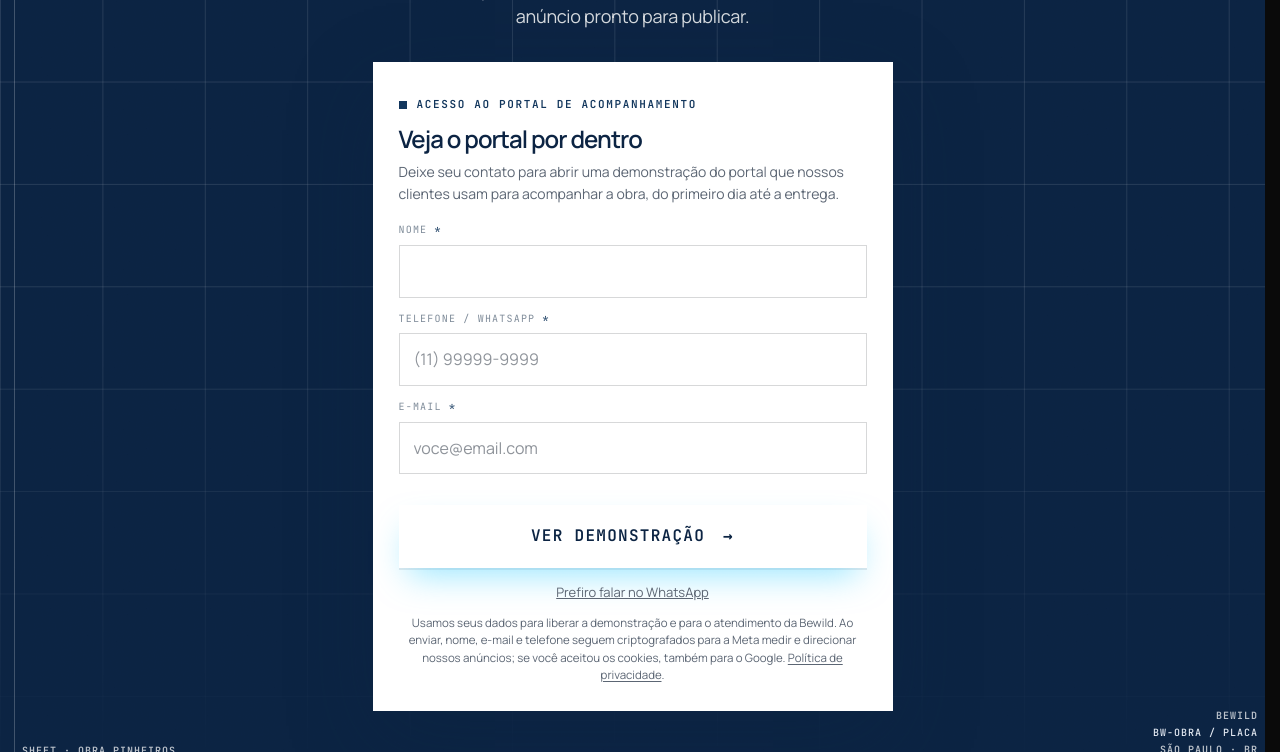
/o — placa de obra (PUB-06) › sem confirmação não redireciona: mostra WhatsApp com os dados e permite reenviar
(page scrolled)
Type "Bruno" into the field with id "g-nome" at {"x": 632, "y": 271}, box x1=398 y1=245 x2=866 y2=298
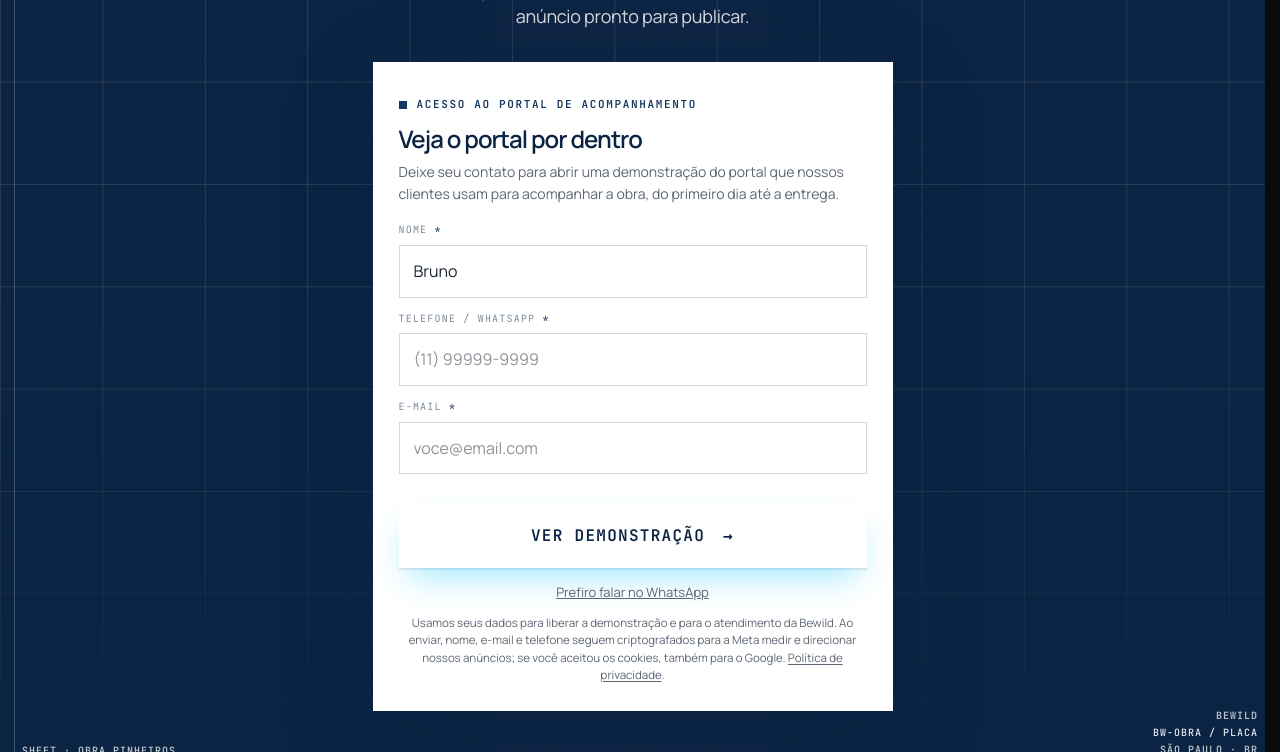
Type "11912345678" into the field with id "g-whats" at {"x": 632, "y": 360}, box x1=398 y1=333 x2=866 y2=386
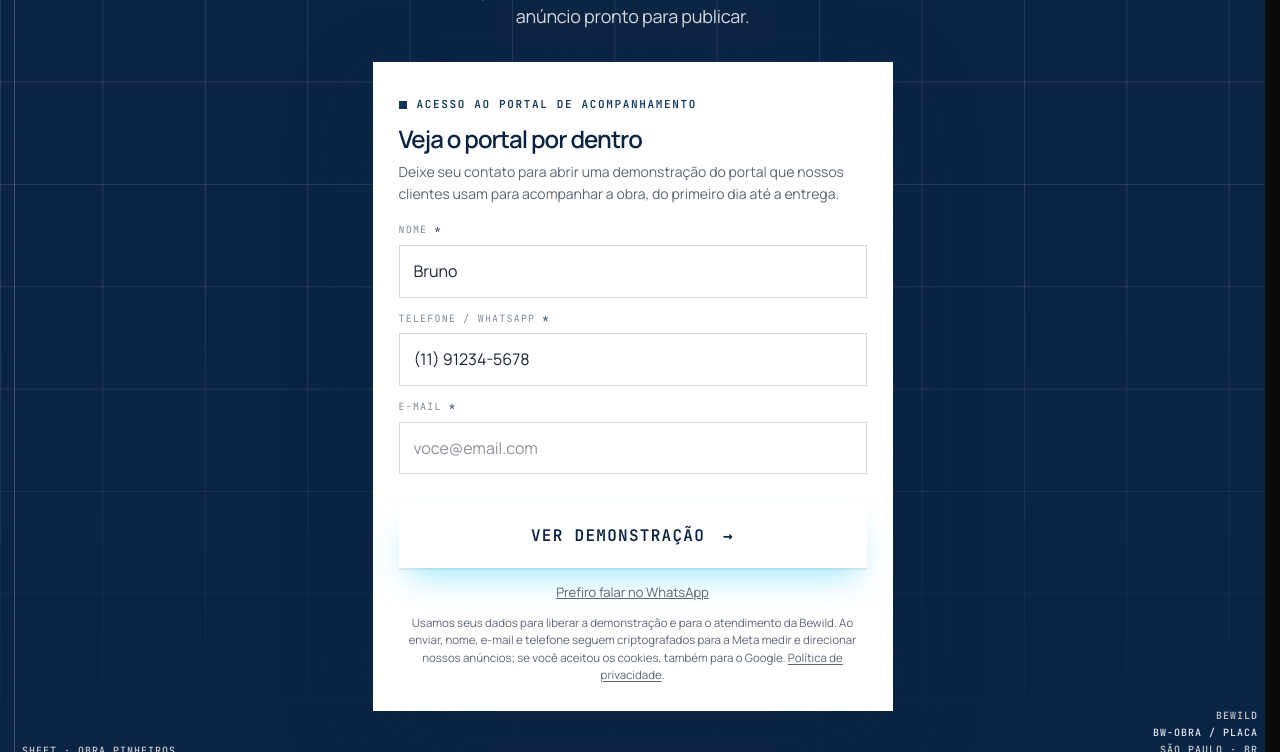
Type "bruno@exemplo.com" into the field with id "g-email" at {"x": 632, "y": 448}, box x1=398 y1=422 x2=866 y2=474
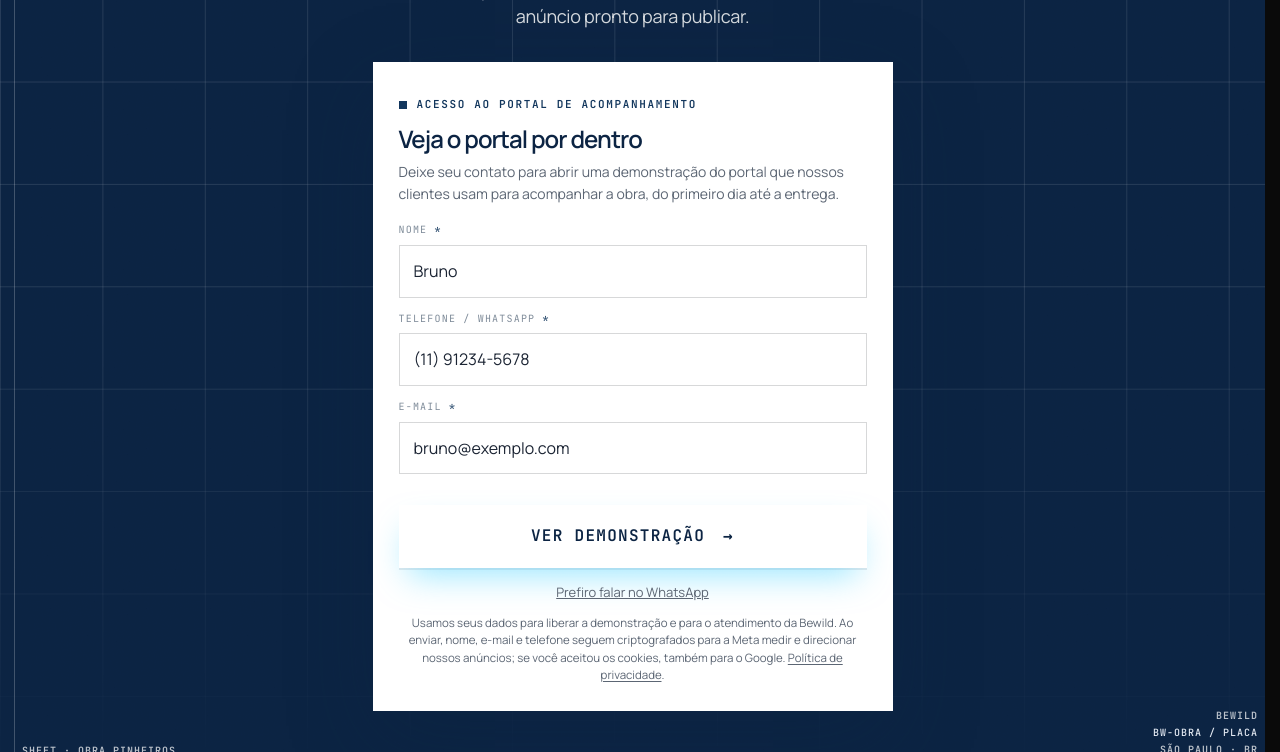
Click the submit button at {"x": 632, "y": 537}, box x1=398 y1=505 x2=866 y2=568
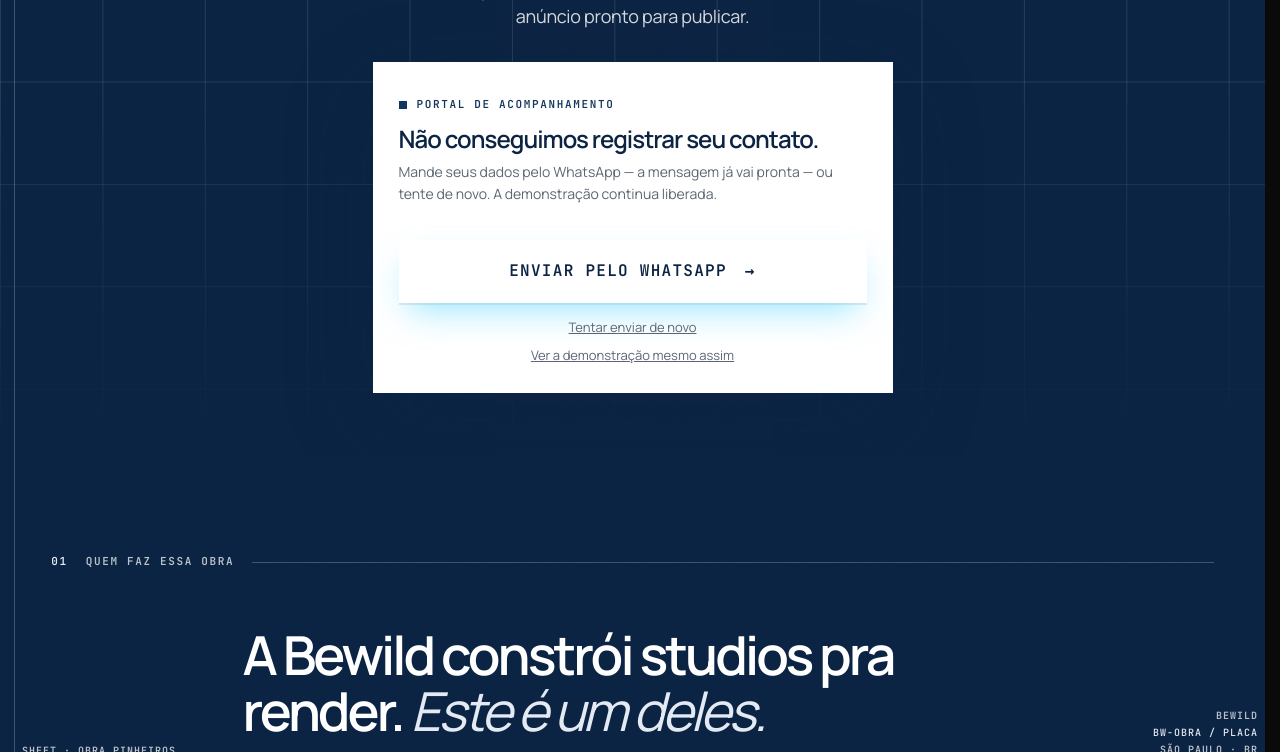
Check: the heading "Não conseguimos registrar seu contato." is shown, box x1=398 y1=125 x2=866 y2=153
Click the button "Tentar enviar de novo" at {"x": 632, "y": 327}, box x1=398 y1=317 x2=866 y2=337
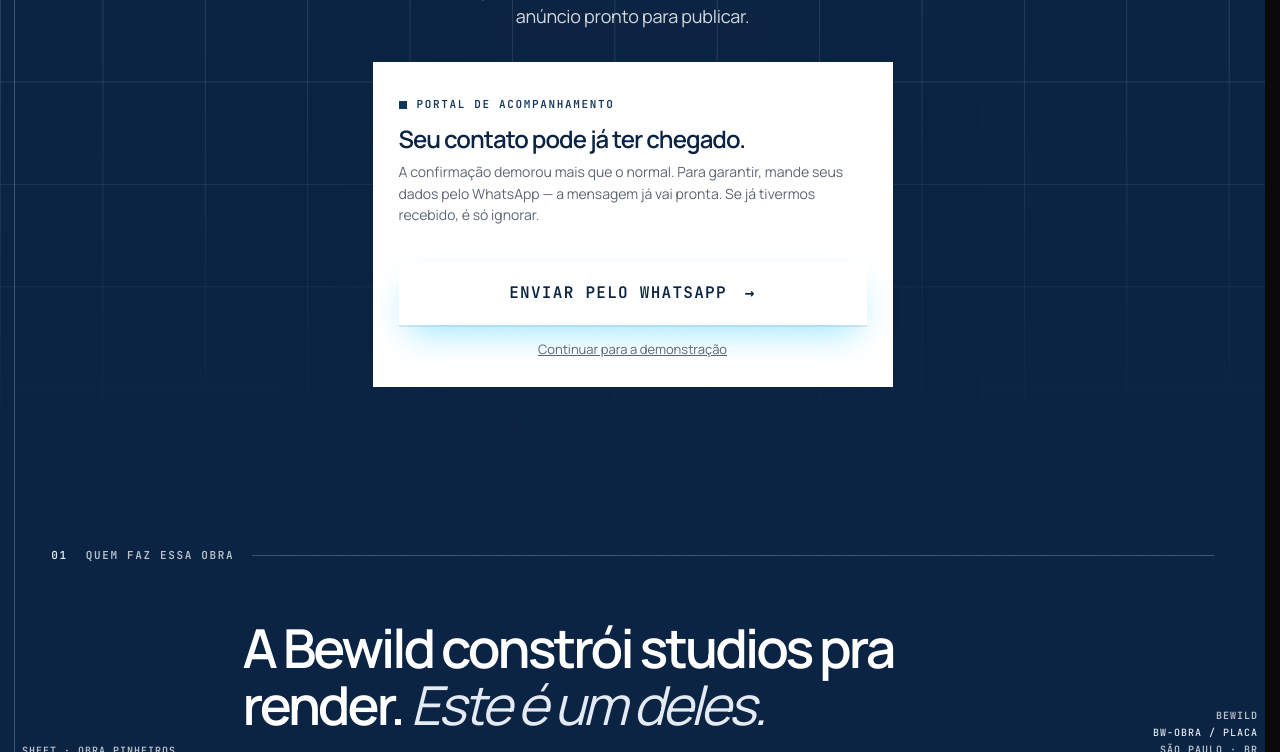
Check: the heading "Seu contato pode já ter chegado." is shown, box x1=398 y1=122 x2=745 y2=155
Check: the button "Tentar enviar de novo" is gone
Check: the button "Continuar para a demonstração" is shown, box x1=398 y1=339 x2=866 y2=359
